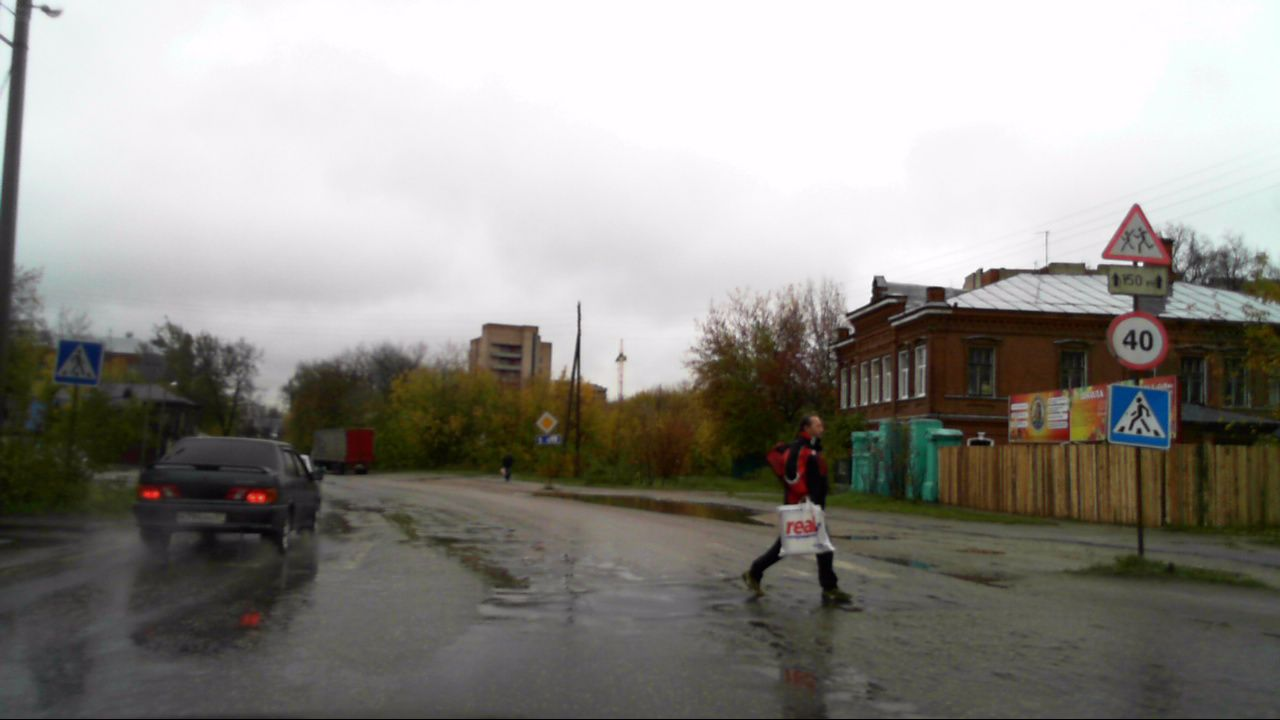speed_warning_40: (1106, 314, 1168, 371)
